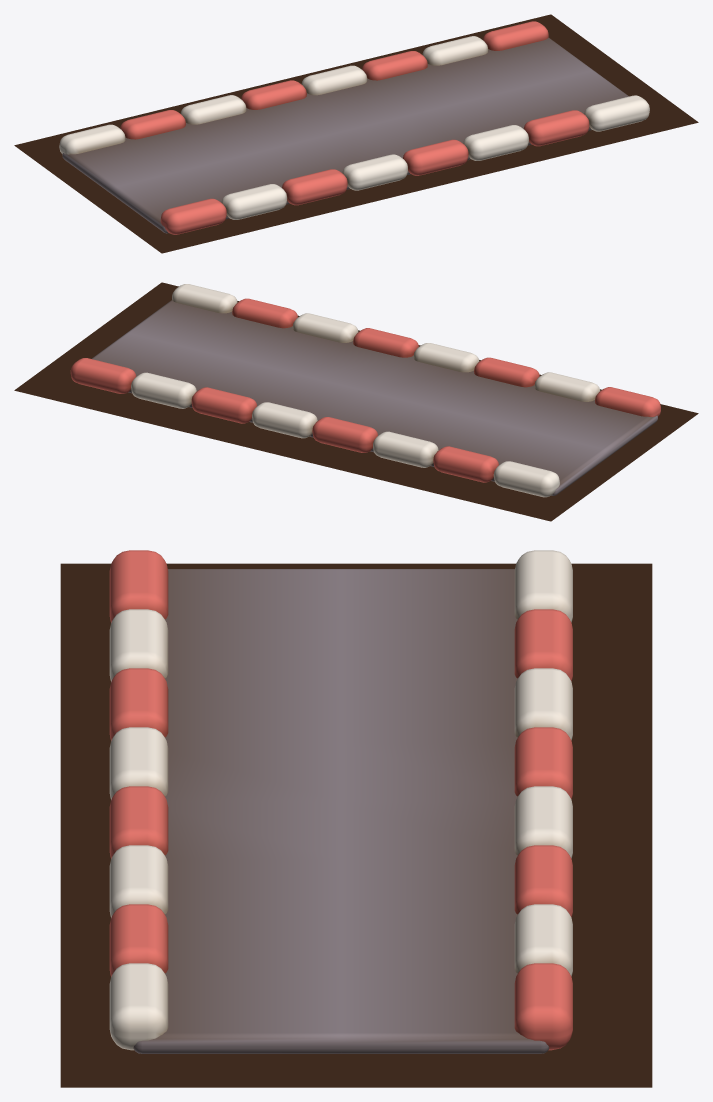
File: track_straight.glb
The picture shows the model from 3 angles, top to bottom: view 1: azimuth 30°, elevation 25°; view 2: azimuth 150°, elevation 25°; view 3: azimuth 270°, elevation 25°; orthographic projection. The views are drawn at different scales.
Visible parts, largest first — view 1: asphalt, baked_shadow, curb-1_0, curb-1_2, curb-1_3, curb-1_7, curb-1_4, curb-1_1, curb-1_6, curb-1_5, curb1_0, curb1_4 (+6 smaller); view 2: asphalt, baked_shadow, curb1_0, curb1_4, curb1_6, curb1_2, curb1_5, curb1_1, curb1_7, curb1_3, curb-1_0, curb-1_6 (+6 smaller); view 3: asphalt, baked_shadow, curb-1_7, curb1_7, curb-1_0, curb-1_1, curb-1_2, curb-1_3, curb-1_4, curb-1_5, curb-1_6, curb1_0 (+6 smaller).
Boxes of the visible parts, box(x1,y1,x2,y2) form: asphalt: box(62, 37, 628, 233); baked_shadow: box(14, 14, 698, 253); curb-1_0: box(160, 198, 226, 234); curb-1_2: box(282, 169, 347, 205); curb-1_3: box(342, 154, 407, 190); curb-1_7: box(584, 95, 649, 131); curb-1_4: box(403, 139, 468, 175); curb-1_1: box(221, 184, 287, 219); curb-1_6: box(523, 110, 589, 146); curb-1_5: box(463, 125, 528, 160); curb1_0: box(59, 124, 125, 154); curb1_4: box(301, 65, 367, 95); asphalt: box(91, 300, 657, 495); baked_shadow: box(14, 282, 698, 521); curb1_0: box(493, 461, 559, 497); curb1_4: box(252, 402, 317, 438); curb1_6: box(131, 372, 196, 408); curb1_2: box(373, 431, 438, 467); curb1_5: box(191, 387, 256, 423); curb1_1: box(433, 446, 498, 482); curb1_7: box(70, 358, 136, 393); curb1_3: box(312, 417, 377, 452); curb-1_0: box(595, 387, 660, 416); curb-1_6: box(232, 298, 297, 328); asphalt: box(133, 569, 549, 1053); baked_shadow: box(60, 563, 652, 1087); curb-1_7: box(109, 963, 168, 1050); curb1_7: box(514, 963, 572, 1050); curb-1_0: box(109, 550, 168, 622); curb-1_1: box(109, 609, 168, 681); curb-1_2: box(109, 668, 168, 740); curb-1_3: box(109, 727, 168, 799); curb-1_4: box(109, 786, 168, 858); curb-1_5: box(109, 845, 168, 917); curb-1_6: box(109, 904, 168, 976); curb1_0: box(514, 550, 572, 622).
Bounding box in the file's own units: 8.89 × 0.34 × 4.24.
Materials: 4 (1 with a texture image).
